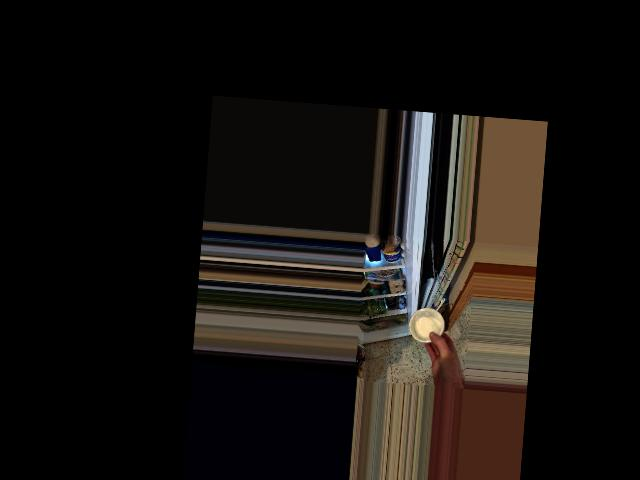cotage: (407, 304, 447, 342)
